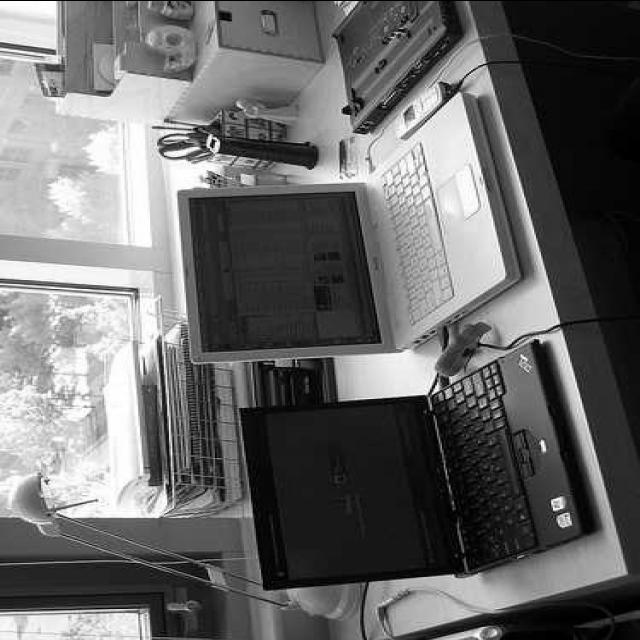laptop: (163, 77, 518, 360), (228, 337, 602, 592)
